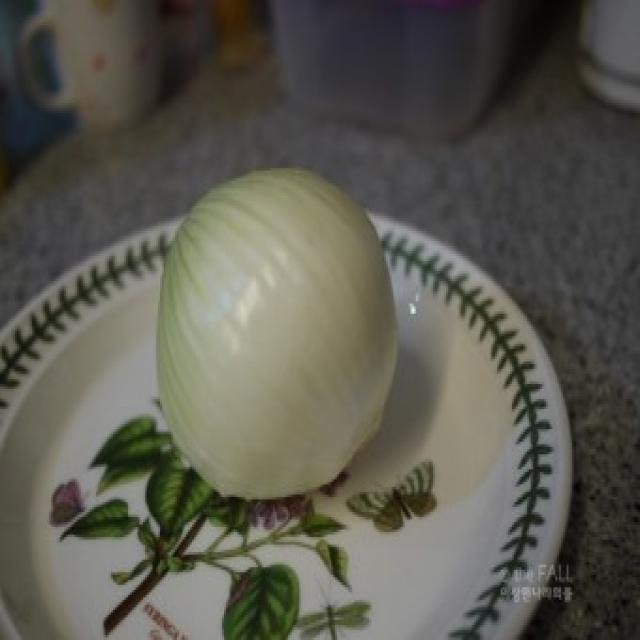onion: (137, 158, 416, 501)
